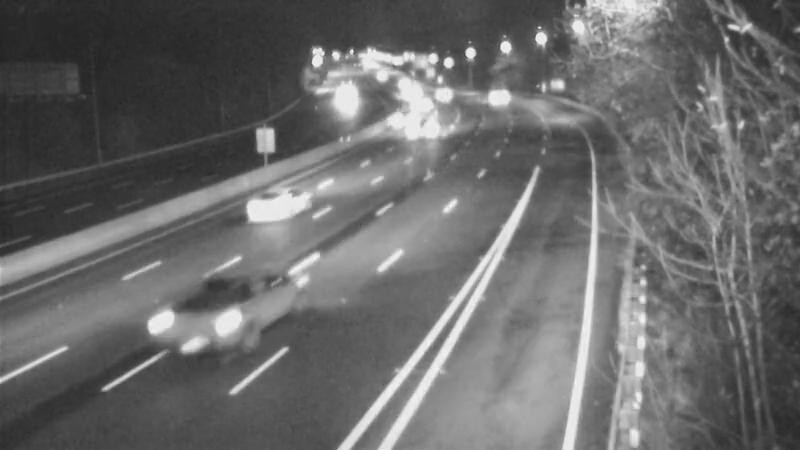vehicle: (140, 268, 250, 378), (235, 160, 315, 240), (375, 59, 425, 109), (472, 70, 522, 120), (416, 66, 466, 116), (384, 70, 434, 120), (397, 82, 447, 132), (378, 90, 428, 140), (404, 106, 454, 156), (316, 70, 366, 120)
